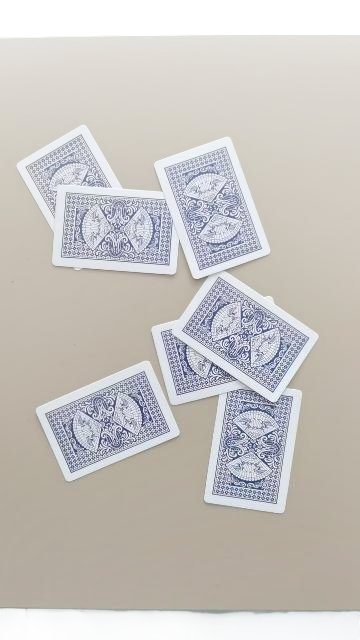card: (172, 271, 318, 402), (36, 361, 179, 481), (155, 138, 270, 279), (204, 389, 302, 513), (52, 185, 179, 274), (16, 125, 121, 229), (151, 321, 246, 405)
